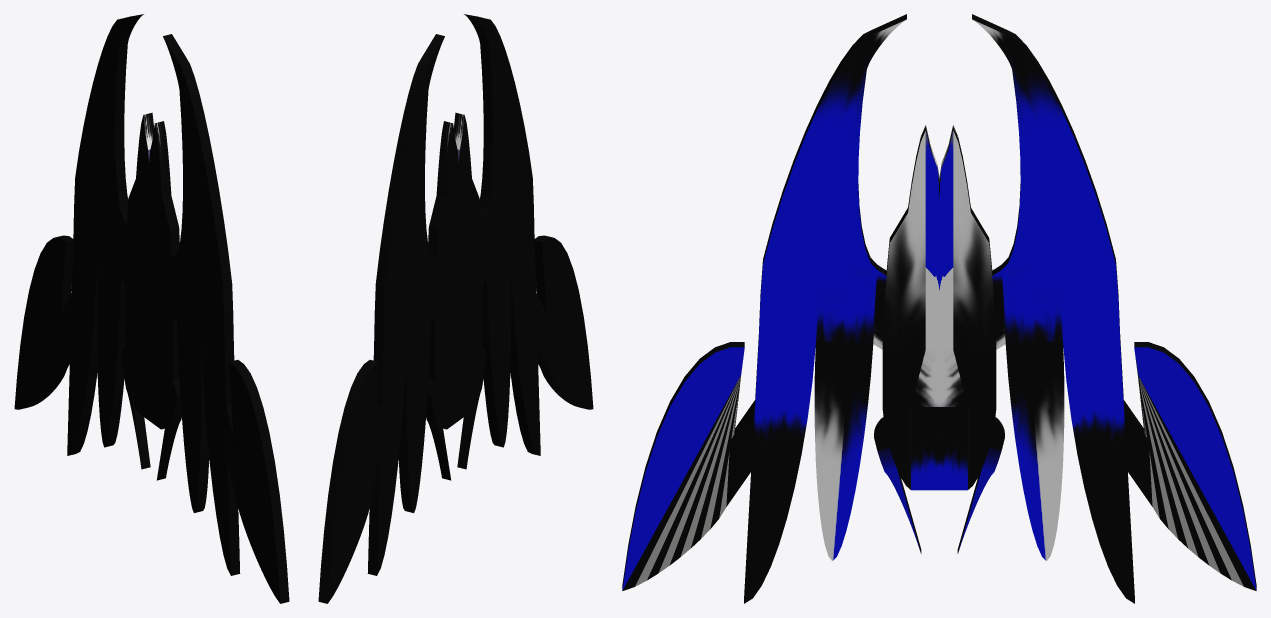
File: Space_Ship_Blue.fbx
3 views of the same model, side by side, from view 1: azimuth 30°, elevation 25°; view 2: azimuth 150°, elevation 25°; view 3: azimuth 270°, elevation 25° (orthographic). The views are drawn at different scales.
Visible parts, largest first — view 1: Cube; view 2: Cube; view 3: Cube.
Part boxes in pixels (<box>): Cube: <box>14,14,289,603</box>; Cube: <box>318,14,593,603</box>; Cube: <box>622,14,1256,603</box>.
Size of the model in its own units: 0.0237 by 1.02 by 1.
Materials: 1 (1 with a texture image).
